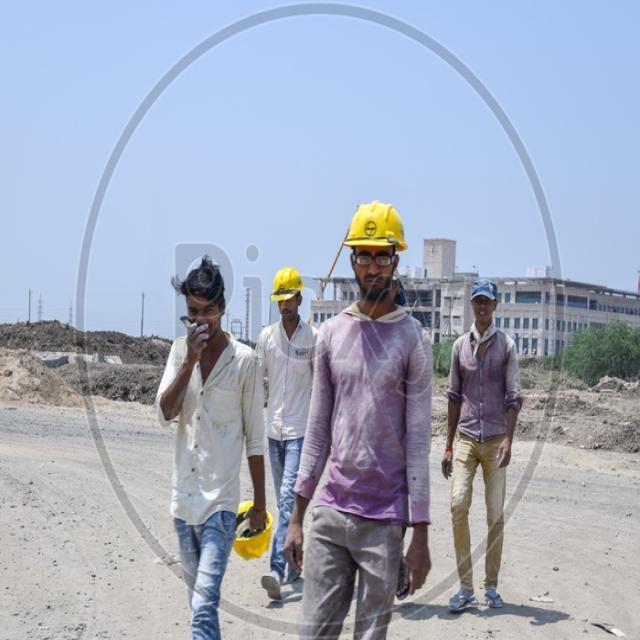helmet: (222, 476, 294, 564), (342, 204, 412, 254), (256, 266, 314, 314)
